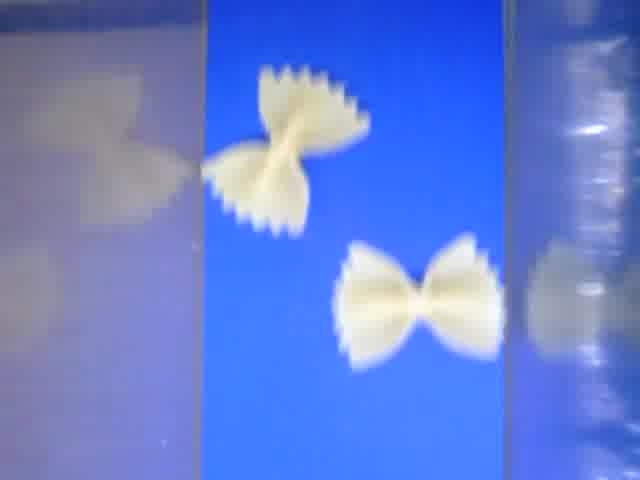farfalle: (201, 64, 371, 237), (332, 232, 505, 374)
